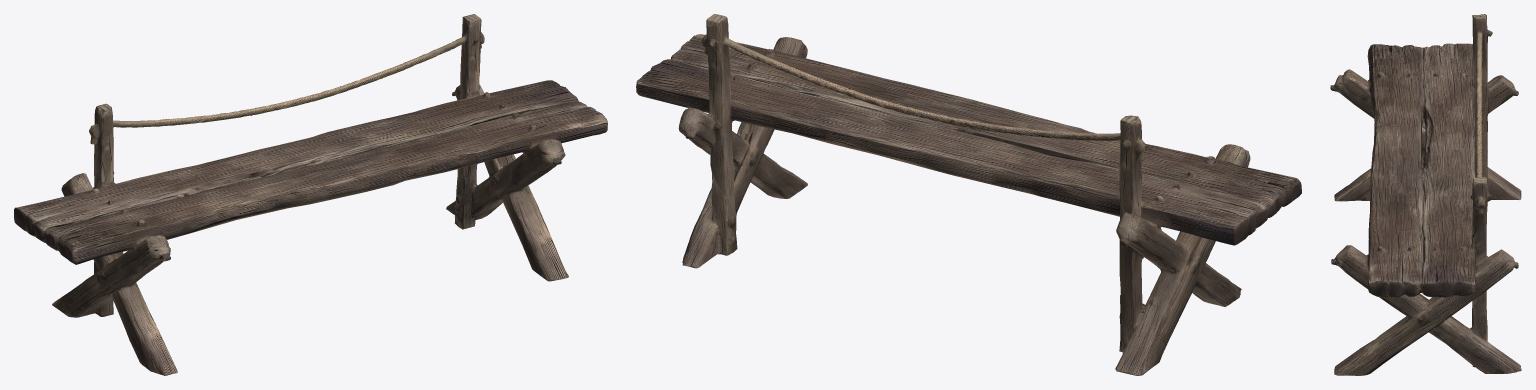
The model's file is roof-walk-board.glb.
3 views of the same model, side by side, from view 1: azimuth 30°, elevation 25°; view 2: azimuth 150°, elevation 25°; view 3: azimuth 270°, elevation 25° (orthographic). The views are drawn at different scales.
Visible parts, largest first — view 1: roof-walk-board_mesh; view 2: roof-walk-board_mesh; view 3: roof-walk-board_mesh.
Part boxes in pixels (bbox=[...]): roof-walk-board_mesh: bbox=[14, 14, 607, 375]; roof-walk-board_mesh: bbox=[636, 14, 1301, 375]; roof-walk-board_mesh: bbox=[1330, 14, 1521, 375].
Size of the model in its own units: 1.9 by 0.6972 by 0.6433.
1 material, 1 textured.
